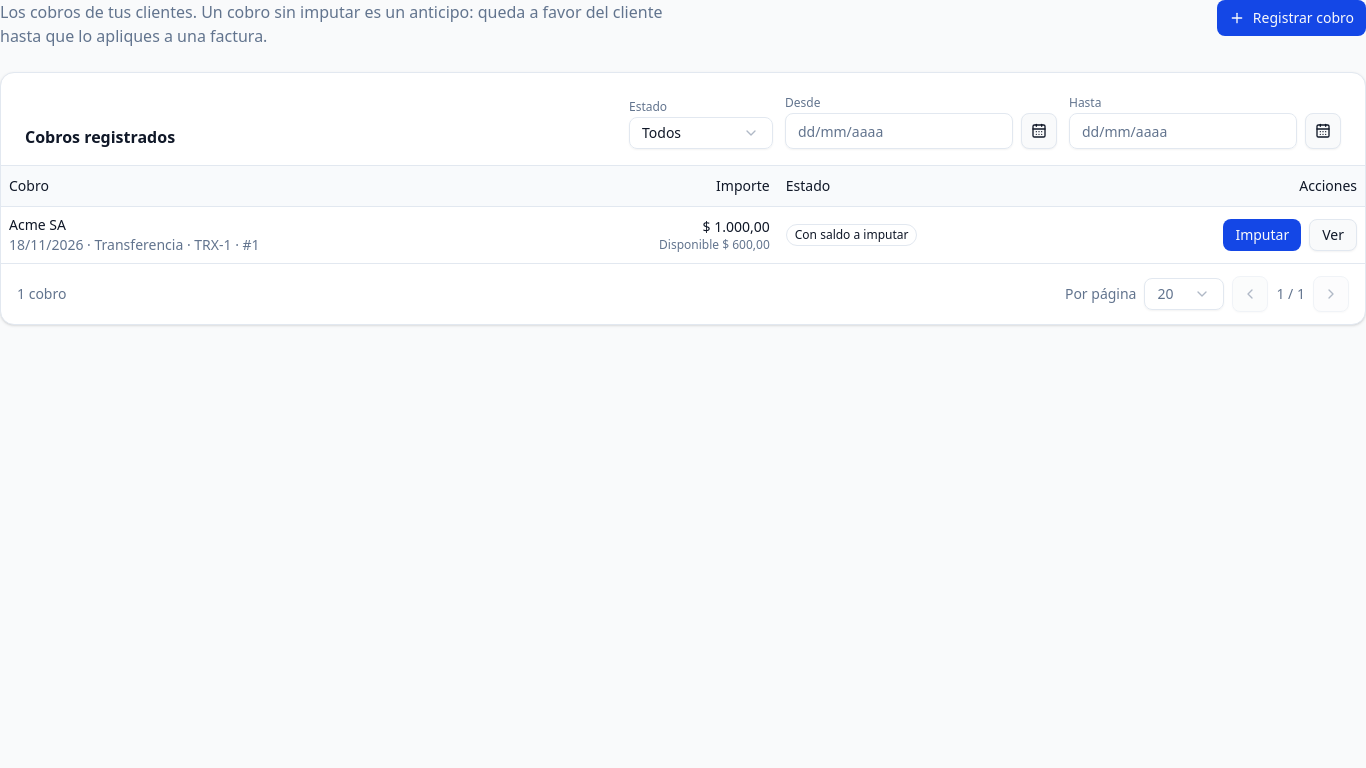
Test: Detalle de un cobro › lista las imputaciones diciendo qué paga cada una y su estado (vigente, liberada, sin efecto)
Click the button with aria-label "Ver cobro 1" at (1333, 234), box [1309, 218, 1357, 250]
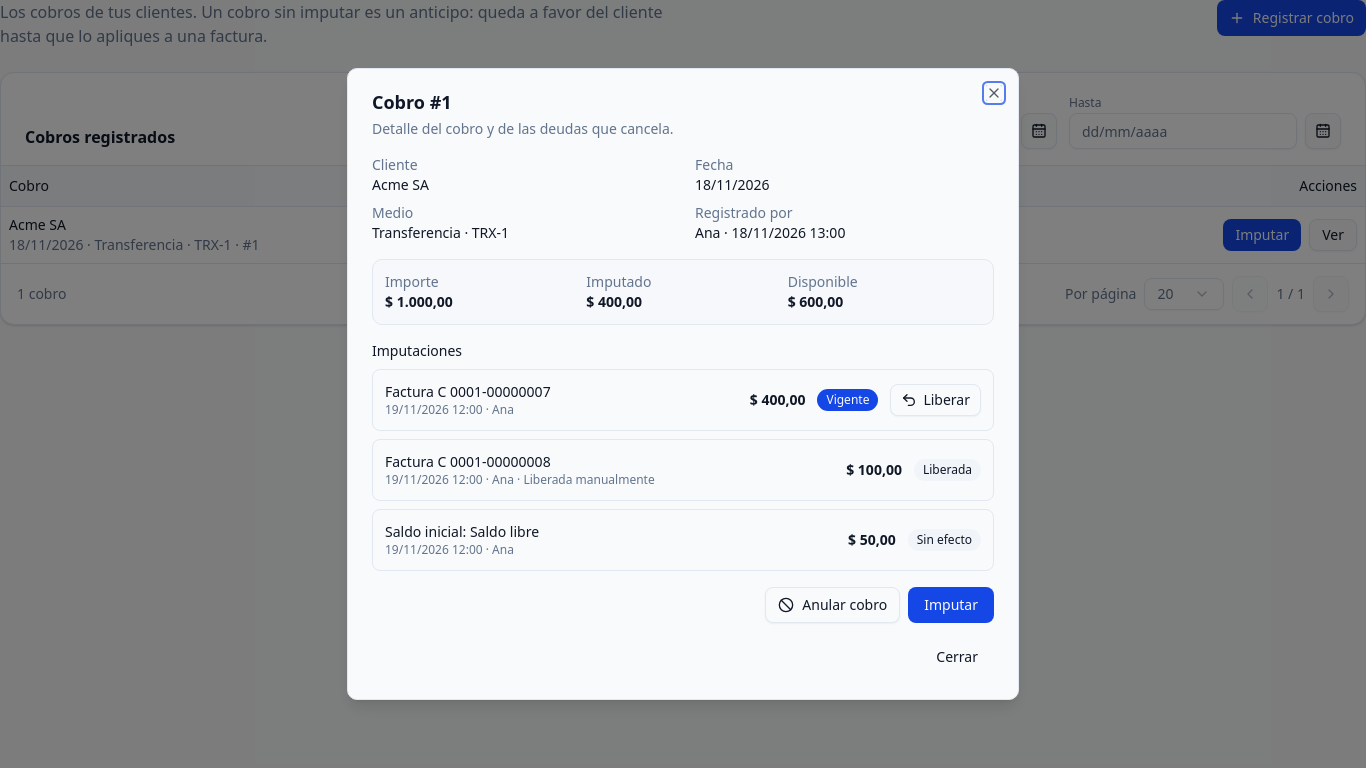
Expected: the text "Factura C 0001-00000007" is shown, [385, 382, 551, 402]
Expected: the text "Vigente" is shown, [817, 389, 878, 411]
Expected: the text "Liberada" is shown, [914, 459, 981, 481]
